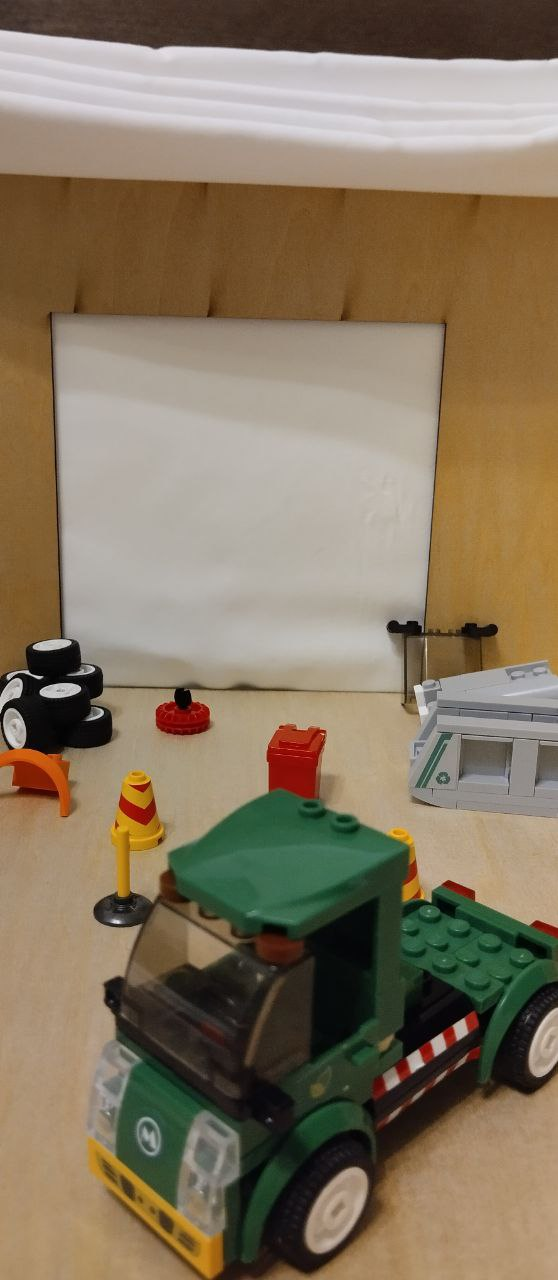Cone: (109, 772, 173, 856), (378, 830, 435, 902)
Object Red: (264, 720, 331, 806)
Truck: (79, 787, 554, 1278)
